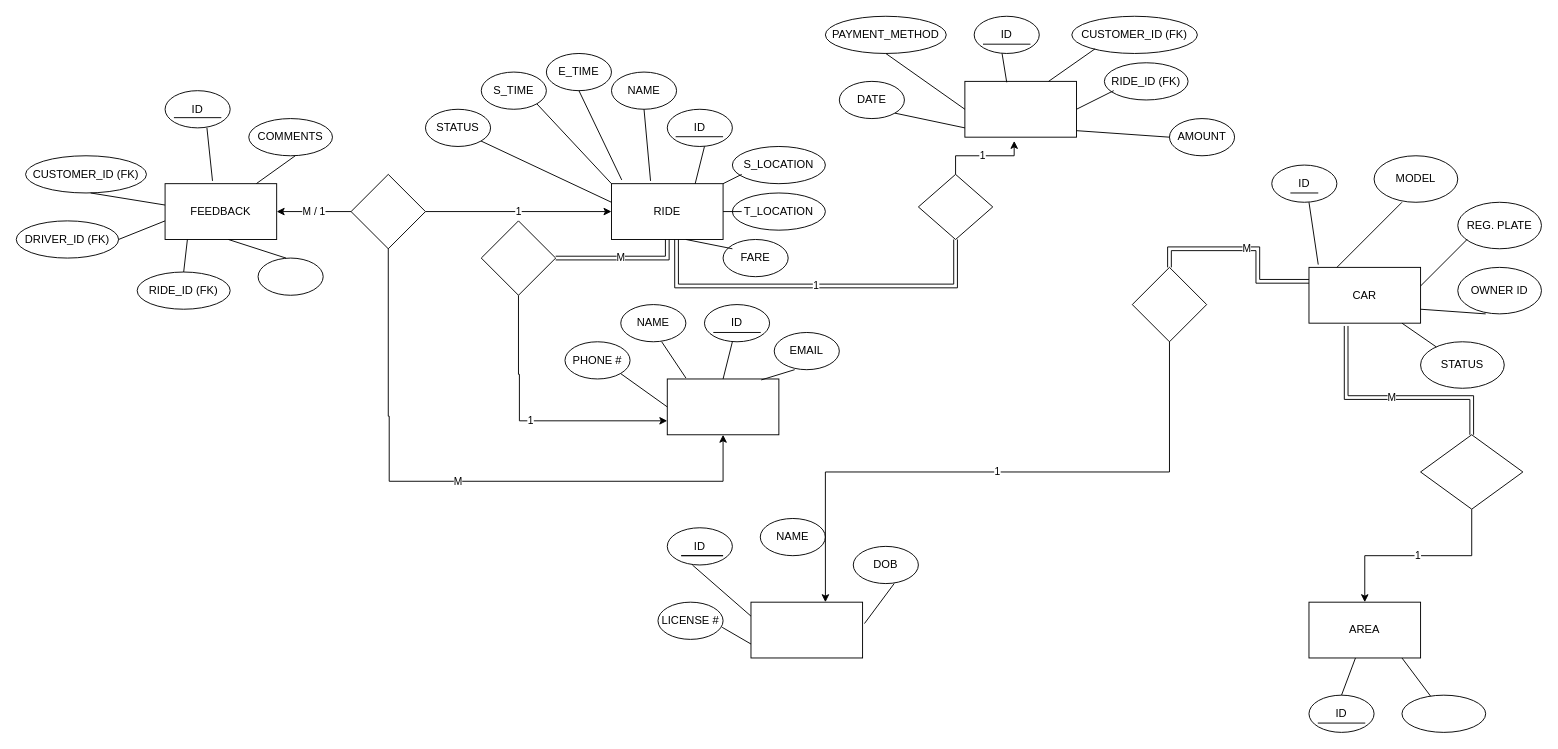
Some shapes in this 1558 by 749 pixel diagram are drawn without their labels. Each missing label, with the box of its shape:
AREA_NAME: (1401, 694, 1486, 732)
CUSTOMER: (666, 378, 779, 435)
Driver: (750, 601, 863, 658)
DRIVES: (1131, 266, 1207, 342)
HAS: (917, 173, 993, 239)
LEAVES: (350, 173, 425, 249)
PAYMENT: (964, 80, 1076, 137)
RATING: (257, 257, 323, 295)
REGISTERED: (1420, 434, 1523, 509)
REQUEST: (480, 220, 556, 295)
